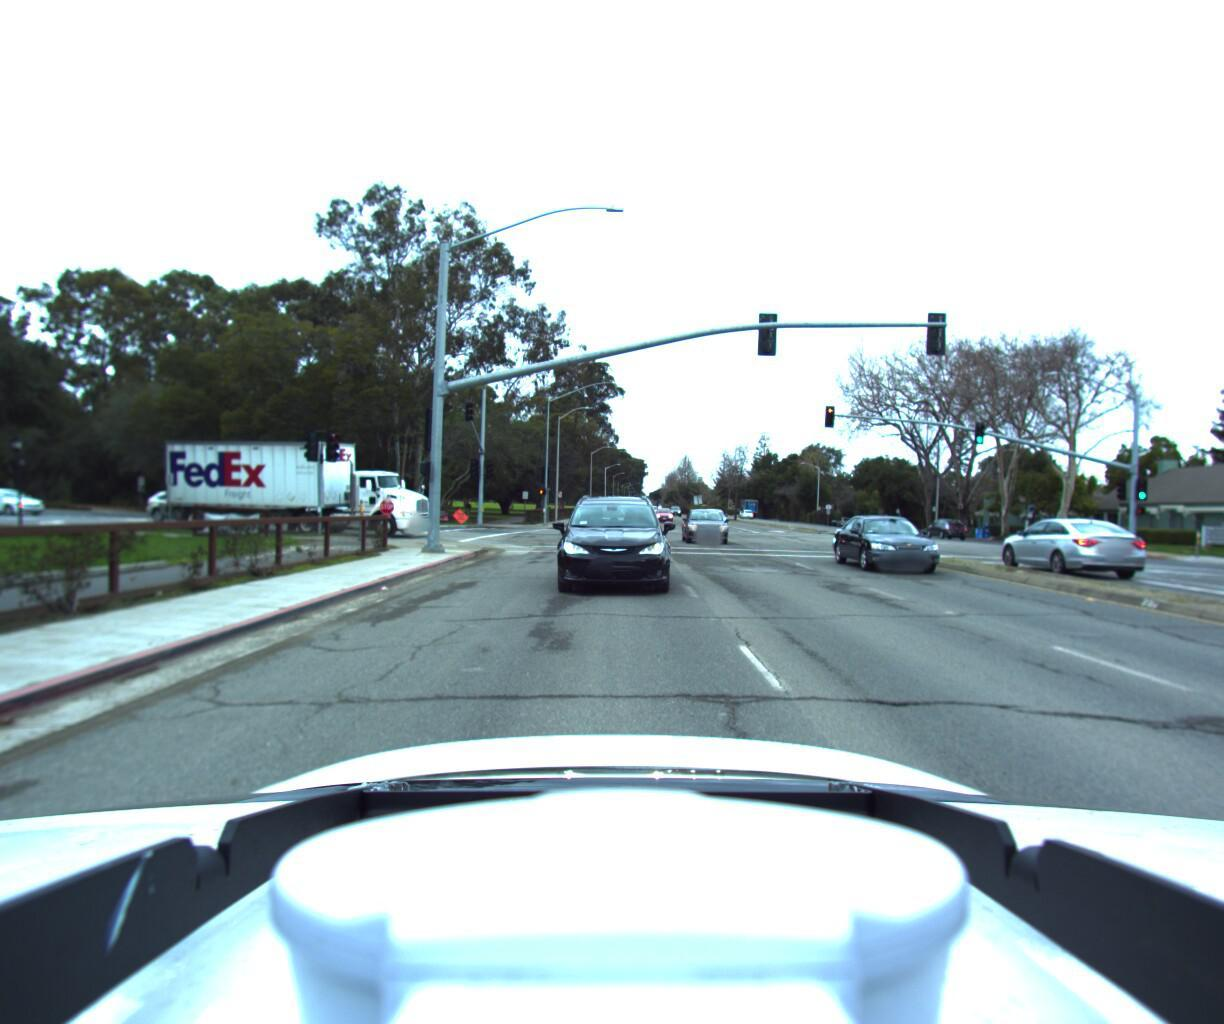car: (549, 486, 667, 593), (998, 515, 1153, 584), (839, 515, 972, 579), (138, 487, 235, 523), (681, 506, 734, 545), (920, 516, 964, 538), (648, 505, 668, 520)
truck: (149, 440, 439, 539)
